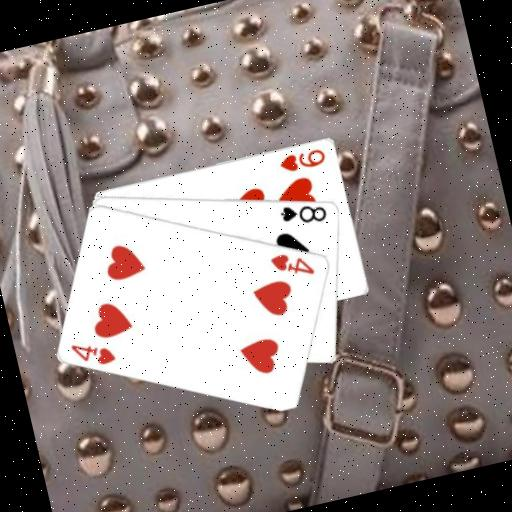4H: (266, 244, 318, 285), (67, 332, 119, 373)
8S: (275, 194, 330, 232)
9H: (275, 143, 329, 175)
